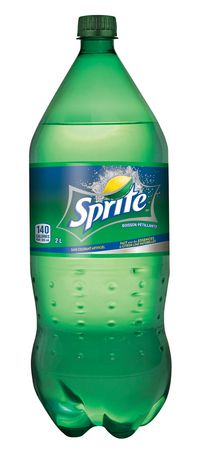sprite: (68, 183, 146, 229)
